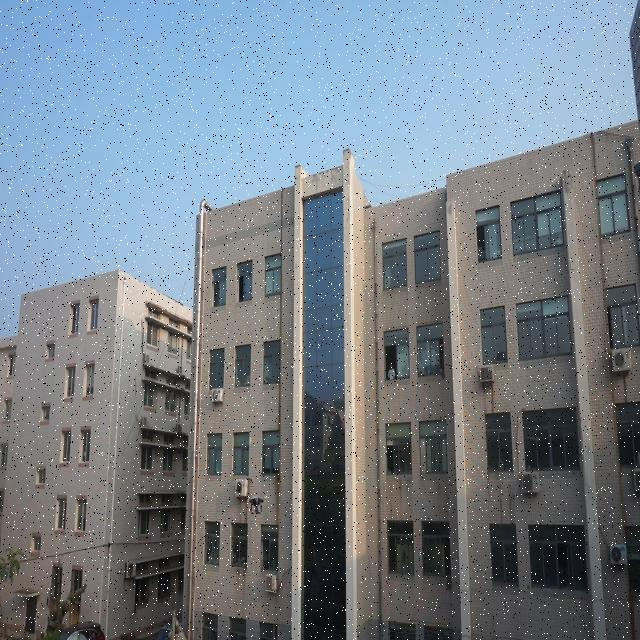UAV: (247, 496, 269, 514)
